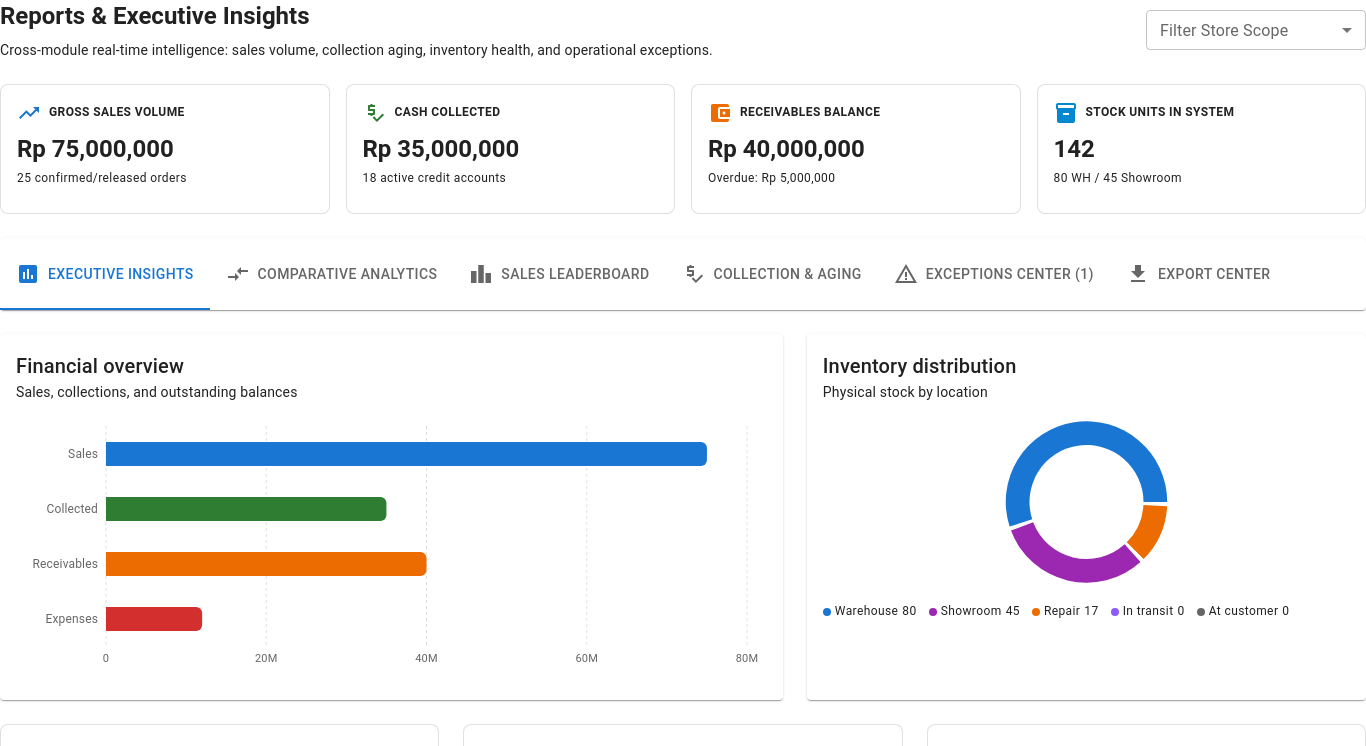
Test: DashboardPage › switches to Comparative Analytics tab and displays period comparison metrics
// Switch to Comparative Analytics tab
Click the tab "Comparative Analytics".
click(331, 274)  # box [210, 238, 453, 310]
(page scrolled)
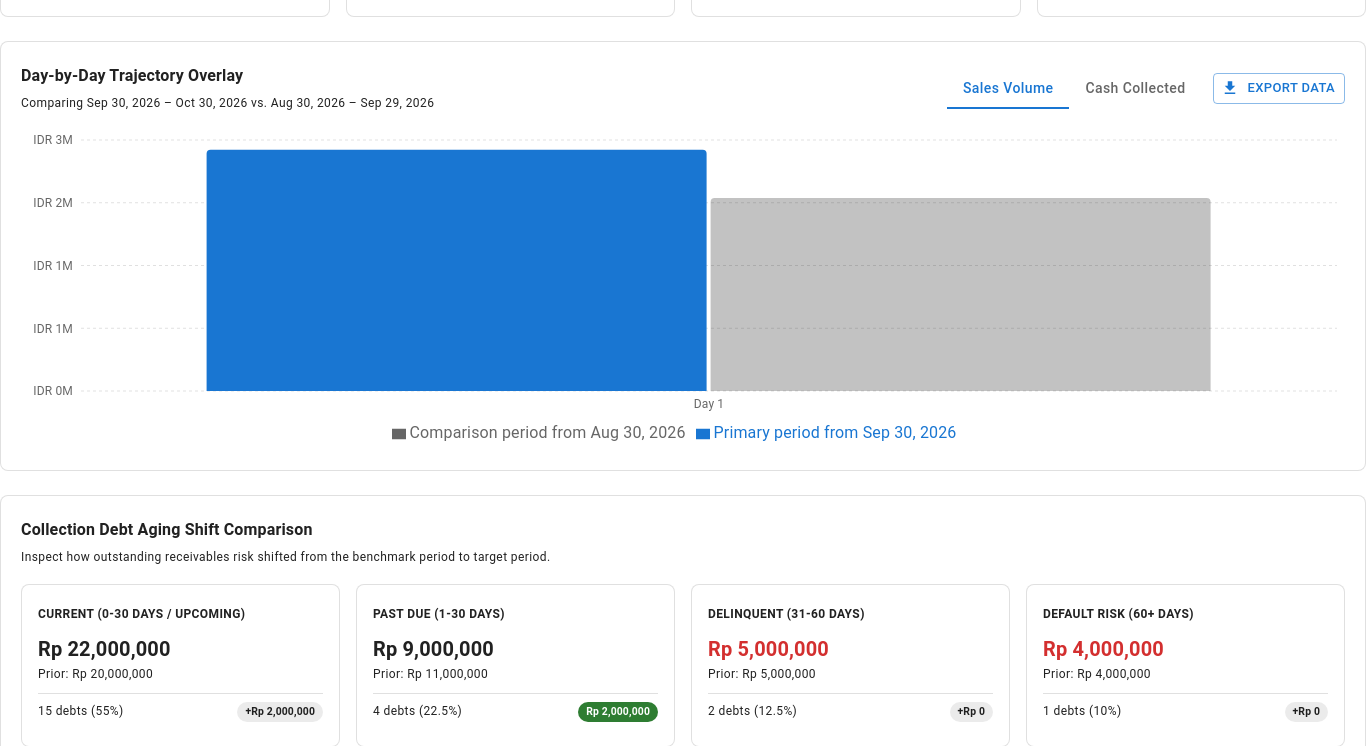
Now the heading "Day-by-Day Trajectory Overlay" is shown, box [21, 66, 243, 85]
Now the heading "Collection Debt Aging Shift Comparison" is shown, box [21, 520, 312, 539]
